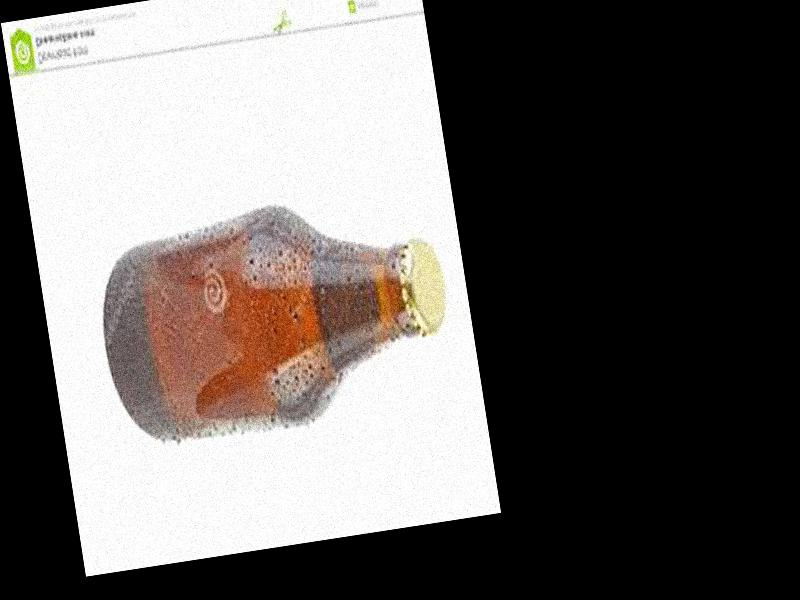Beer: (89, 183, 460, 453)
